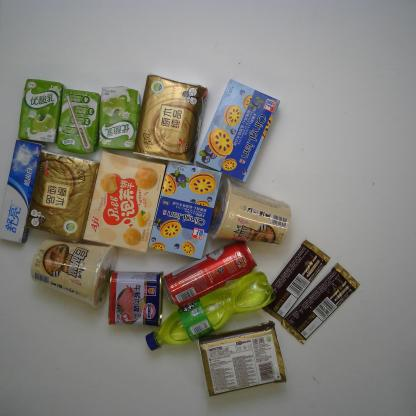Alcohol: (164, 242, 258, 311)
Canned Food: (106, 268, 168, 328)
Chocolate: (280, 262, 361, 347), (260, 239, 332, 324)
Dessert: (81, 149, 167, 255), (195, 78, 280, 184), (148, 158, 224, 260)
Drink: (144, 270, 278, 351)
Instant Noodles: (31, 234, 120, 308), (210, 178, 293, 247)
Milk: (56, 87, 105, 156), (19, 77, 65, 145), (96, 84, 142, 151)
Personal Hygiene: (2, 140, 46, 246)
Tissue: (27, 149, 103, 243), (197, 321, 288, 399), (136, 72, 208, 166)
